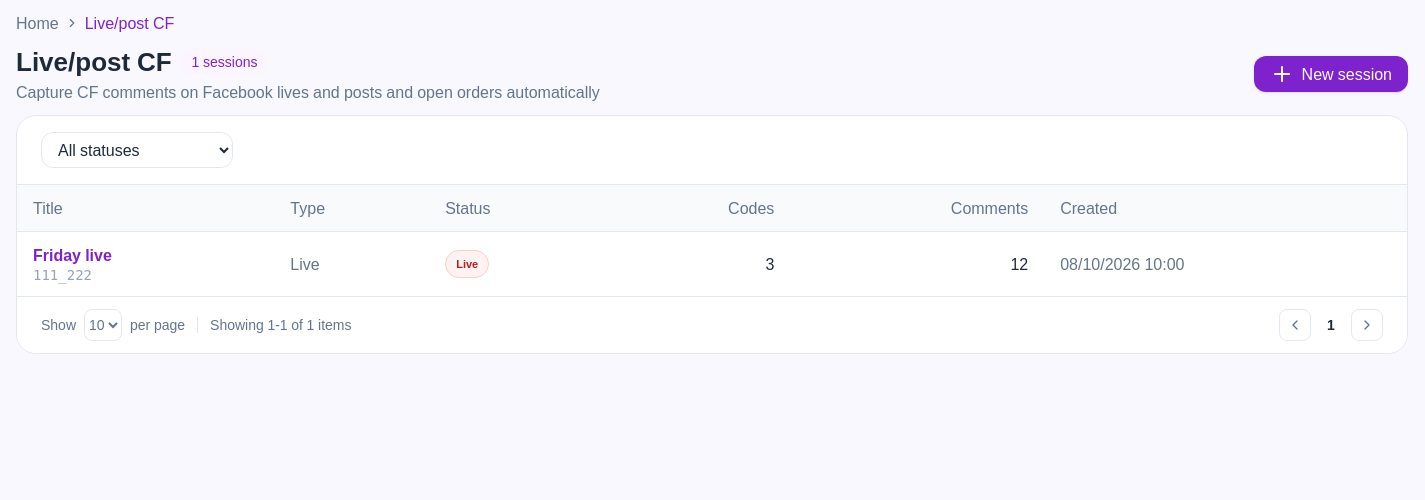
Test: SessionList › ກອງສະຖານະ: ສົ່ງ status ແລະ ສະແດງ empty ແບບມີ filter + ລ້າງ
The image size is (1425, 500).
Check: the link "Friday live" is shown, box [33,242,112,268]
Step 1. Select "Ended" in the dropdown named "Filter by status" → (137, 150), box [41,132,233,168]
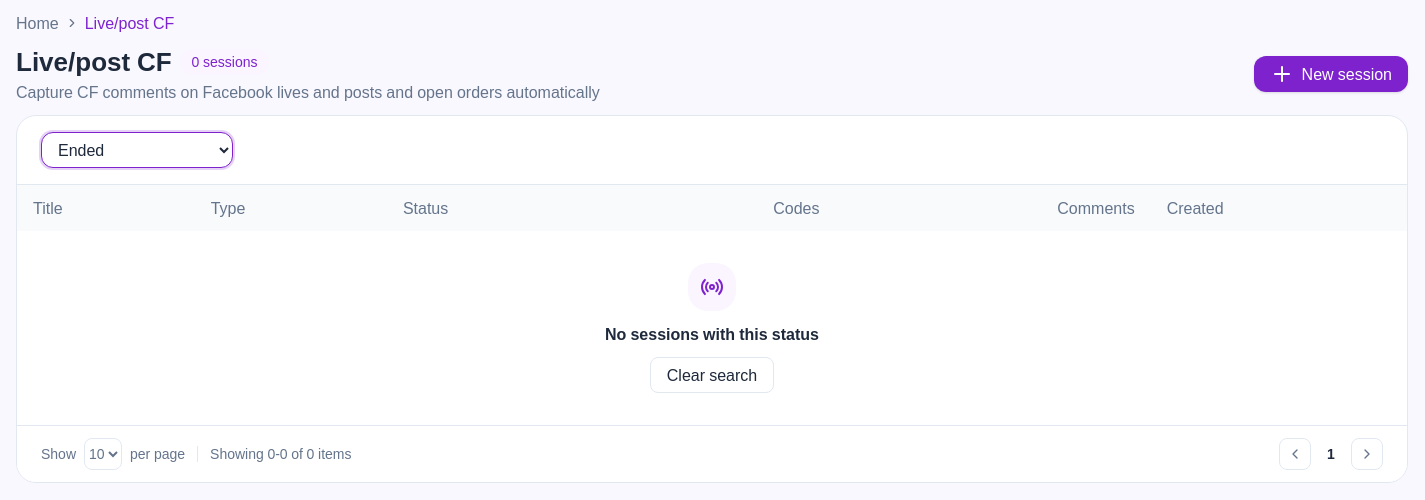
Check: the text "No sessions with this status" is shown, box [605,322,819,344]
Step 2. Click the button "Clear search" → (712, 374), box [650,356,774,392]
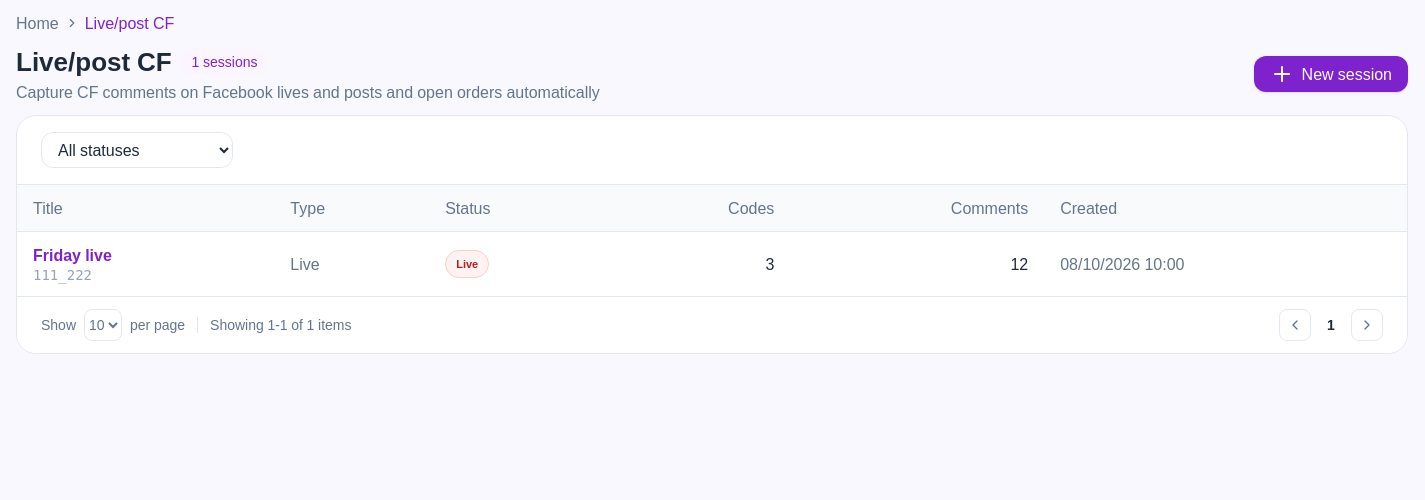
Check: the link "Friday live" is shown, box [33,242,112,268]
